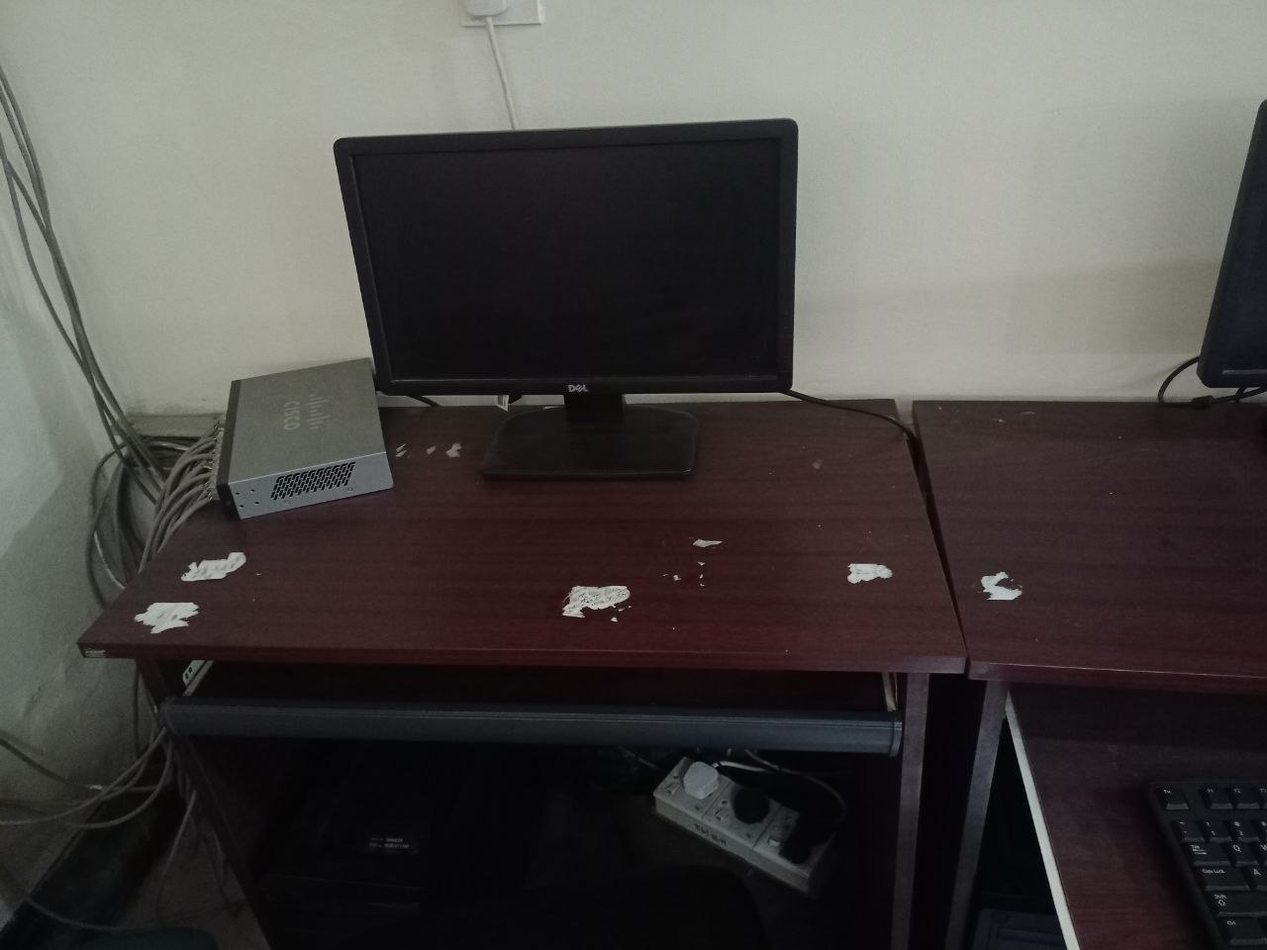computer monitor: (335, 120, 796, 477), (1198, 102, 1266, 387)
